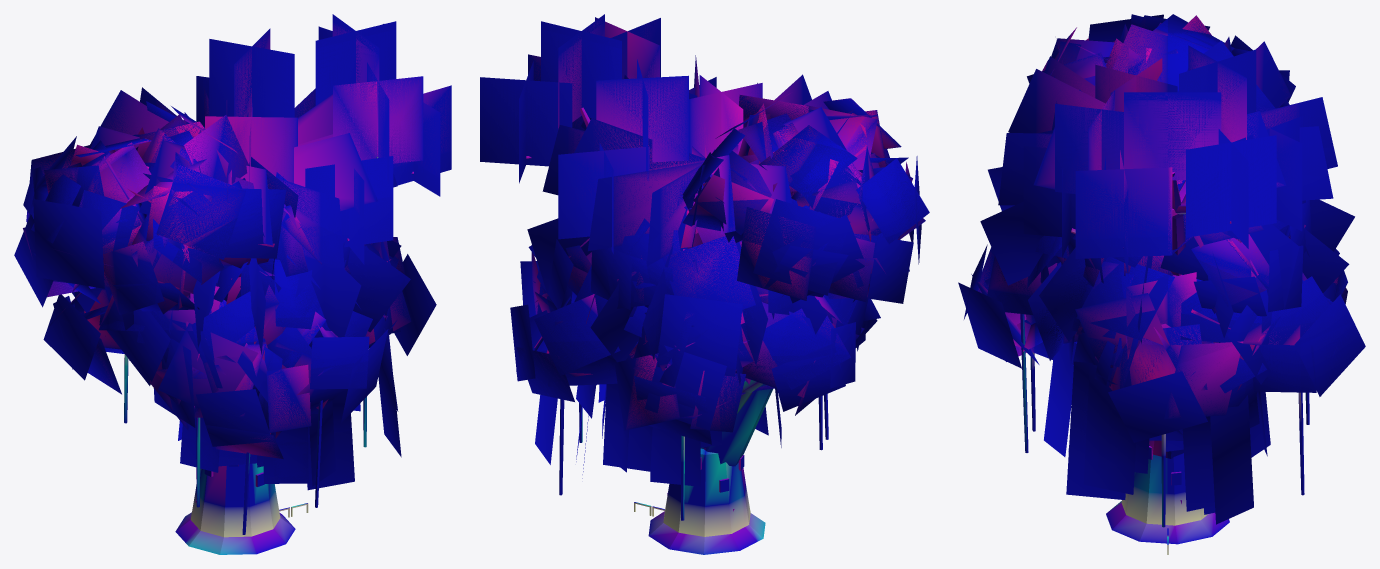
Rendered from trees_kit.glb.
3 renders of one model, left to right at view 1: azimuth 30°, elevation 25°; view 2: azimuth 150°, elevation 25°; view 3: azimuth 270°, elevation 25°, orthographic. The views are drawn at different scales.
Visible parts, largest first — view 1: ahuehuete_split, tree_laurel, palm_canary, tree_willow, tree_ash; view 2: ahuehuete_split, tree_laurel, palm_canary, tree_ash, tree_willow; view 3: ahuehuete_split, tree_laurel, palm_canary, tree_willow, tree_ash.
Boxes of the visible parts, x1=… form: ahuehuete_split: x1=14, y1=14, x2=451, y2=554; tree_laurel: x1=43, y1=237, x2=436, y2=534; palm_canary: x1=72, y1=87, x2=410, y2=354; tree_willow: x1=178, y1=307, x2=401, y2=490; tree_ash: x1=105, y1=172, x2=366, y2=326; ahuehuete_split: x1=480, y1=14, x2=929, y2=554; tree_laurel: x1=510, y1=236, x2=880, y2=520; palm_canary: x1=527, y1=55, x2=846, y2=365; tree_ash: x1=537, y1=174, x2=794, y2=319; tree_willow: x1=535, y1=341, x2=781, y2=486; ahuehuete_split: x1=1023, y1=14, x2=1305, y2=544; tree_laurel: x1=958, y1=235, x2=1365, y2=527; palm_canary: x1=980, y1=24, x2=1354, y2=343; tree_willow: x1=1044, y1=332, x2=1270, y2=524; tree_ash: x1=1056, y1=180, x2=1311, y2=316.
Size of the model in its own units: 10.98 by 12.21 by 9.24.
